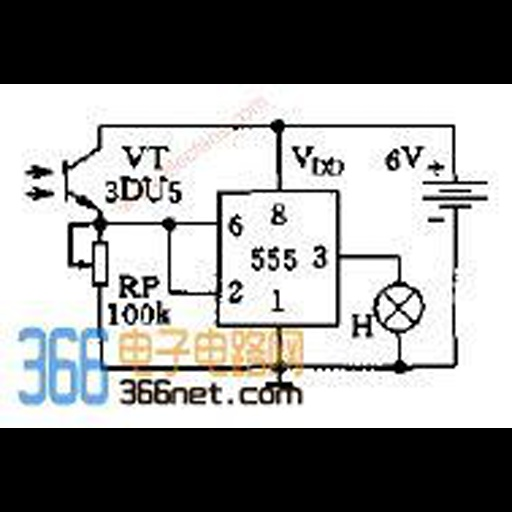battery: (418, 159, 493, 212)
light: (372, 281, 427, 334)
